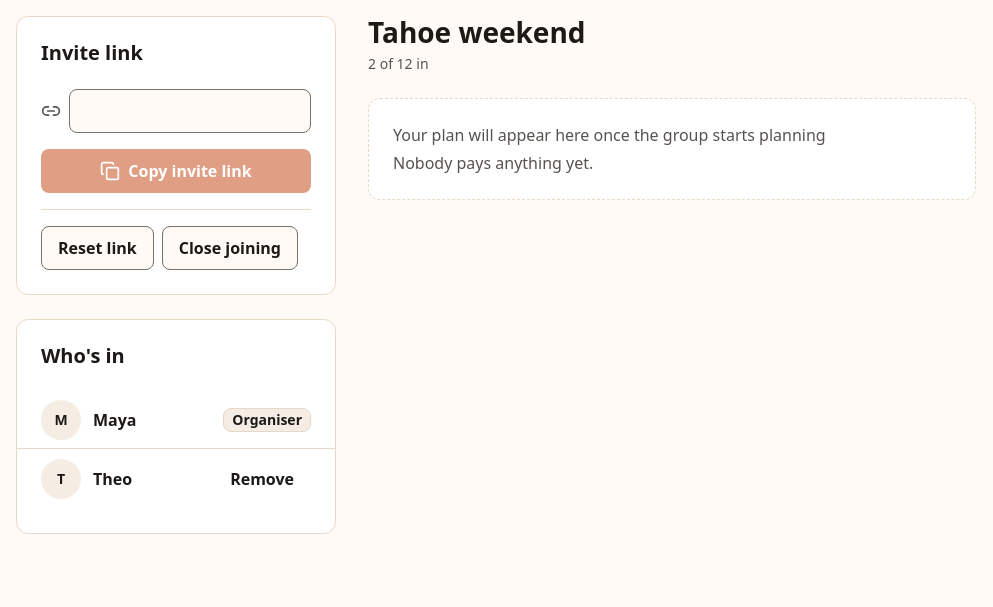
Test: TripPage organiser invite card › resets the link in two steps and shows the new one
Click the button "Reset link" at {"x": 97, "y": 248}, box left=41, top=226, right=154, bottom=270
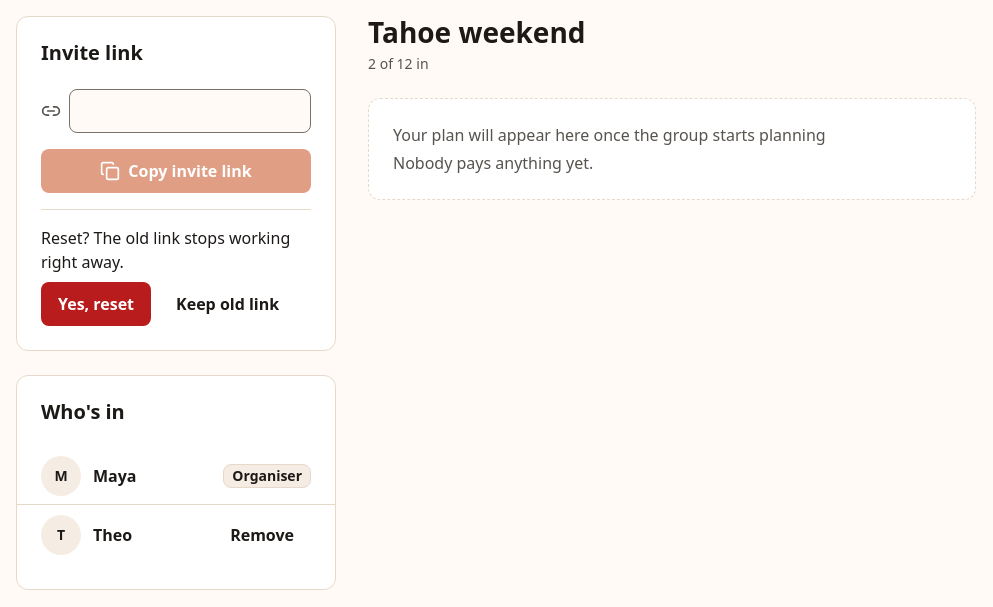
Now the text "Reset? The old link stops working right away." is shown, box left=41, top=226, right=311, bottom=274
Click the button "Yes, reset" at {"x": 96, "y": 304}, box left=41, top=282, right=151, bottom=326
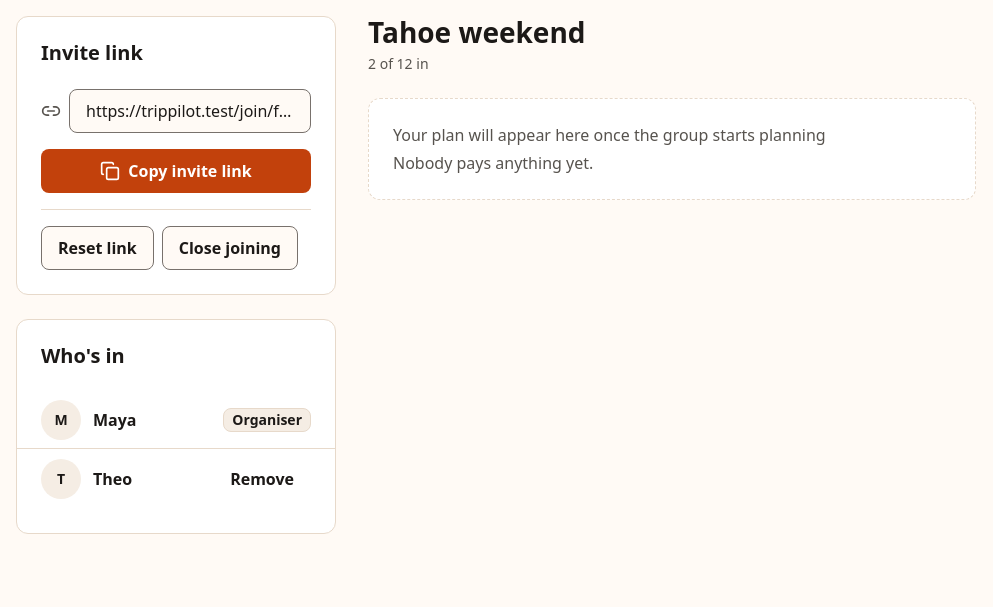
Now the field named "Invite link address" holds "https://trippilot.test/join/fresh999", box left=69, top=89, right=311, bottom=133
Now the button "Reset link" is shown, box left=41, top=226, right=154, bottom=270
